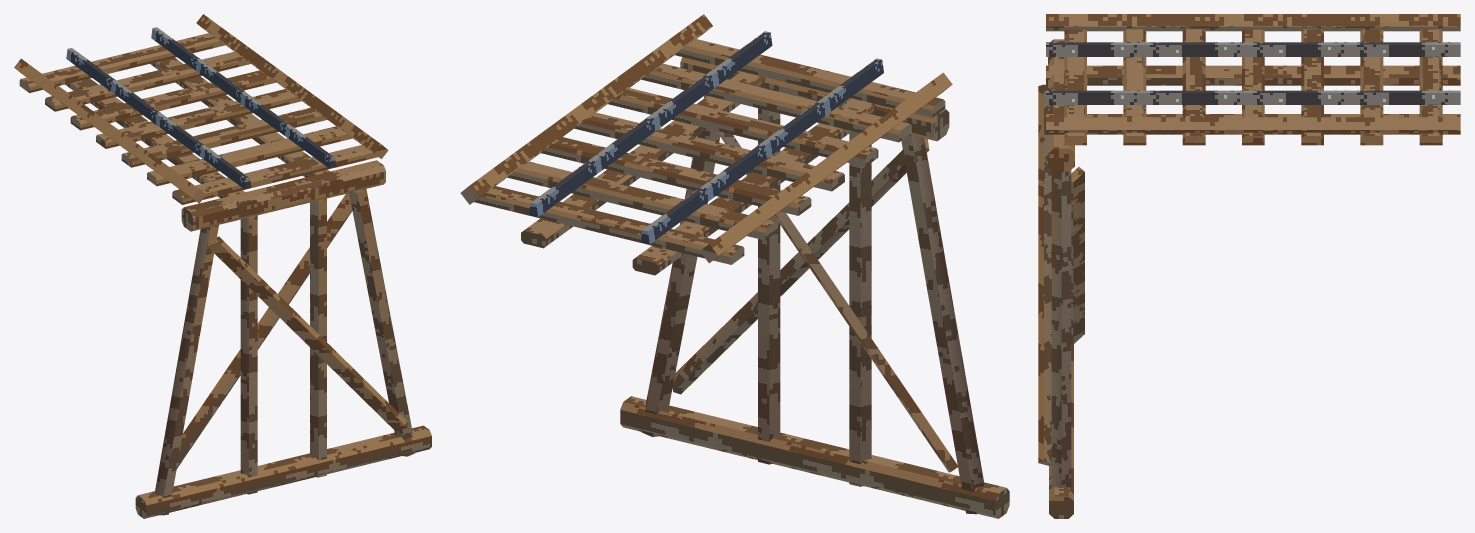
File: wrail.trestle.glb
3 views of the same model, side by side, from view 1: azimuth 30°, elevation 25°; view 2: azimuth 150°, elevation 25°; view 3: azimuth 270°, elevation 25° (orthographic). The views are drawn at different scales.
Parts seen in each view (by area): view 1: kit_ties, kit_bents, kit_braces, kit_sills, kit_rails, kit_guards, kit_caps, kit_stringers; view 2: kit_ties, kit_bents, kit_sills, kit_rails, kit_guards, kit_braces, kit_stringers, kit_caps; view 3: kit_guards, kit_rails, kit_ties, kit_braces, kit_bents, kit_stringers, kit_caps, kit_sills.
Part boxes in pixels (left/top/right/bottom): kit_ties: left=19, top=33, right=378, bottom=204; kit_bents: left=155, top=188, right=415, bottom=515; kit_braces: left=176, top=193, right=408, bottom=468; kit_sills: left=135, top=425, right=431, bottom=518; kit_rails: left=66, top=27, right=336, bottom=189; kit_guards: left=14, top=14, right=388, bottom=203; kit_caps: left=181, top=160, right=385, bottom=231; kit_stringers: left=65, top=57, right=342, bottom=212; kit_ties: left=474, top=39, right=945, bottom=264; kit_bents: left=641, top=95, right=983, bottom=514; kit_sills: left=620, top=396, right=1009, bottom=518; kit_rails: left=529, top=31, right=883, bottom=244; kit_guards: left=460, top=14, right=952, bottom=263; kit_braces: left=672, top=130, right=958, bottom=472; kit_stringers: left=521, top=71, right=877, bottom=275; kit_caps: left=680, top=57, right=949, bottom=141; kit_guards: left=1046, top=14, right=1460, bottom=134; kit_rails: left=1046, top=42, right=1460, bottom=104; kit_ties: left=1064, top=29, right=1442, bottom=145; kit_braces: left=1038, top=84, right=1084, bottom=465; kit_bents: left=1051, top=170, right=1071, bottom=488; kit_stringers: left=1046, top=65, right=1460, bottom=117; kit_caps: left=1048, top=39, right=1074, bottom=171; kit_sills: left=1049, top=343, right=1073, bottom=518.
Bounding box in the file's own units: 3.7 × 3.98 × 4.07.
Materials: 2 (2 with a texture image).
